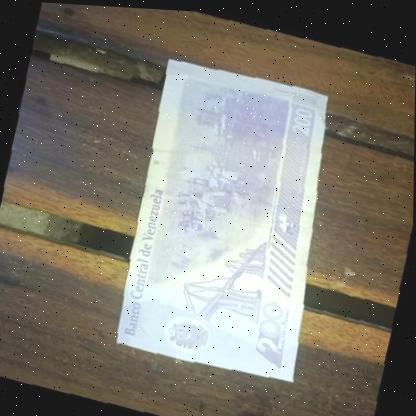two_hundred-back-vef: (104, 47, 358, 389)
